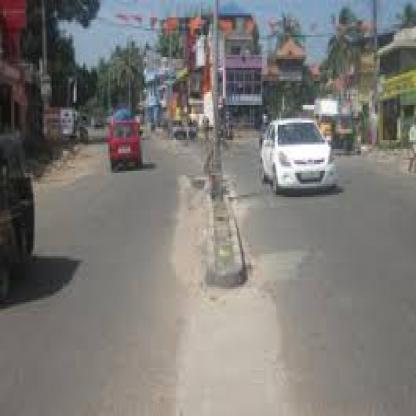car: (253, 116, 344, 206), (106, 115, 146, 174)
